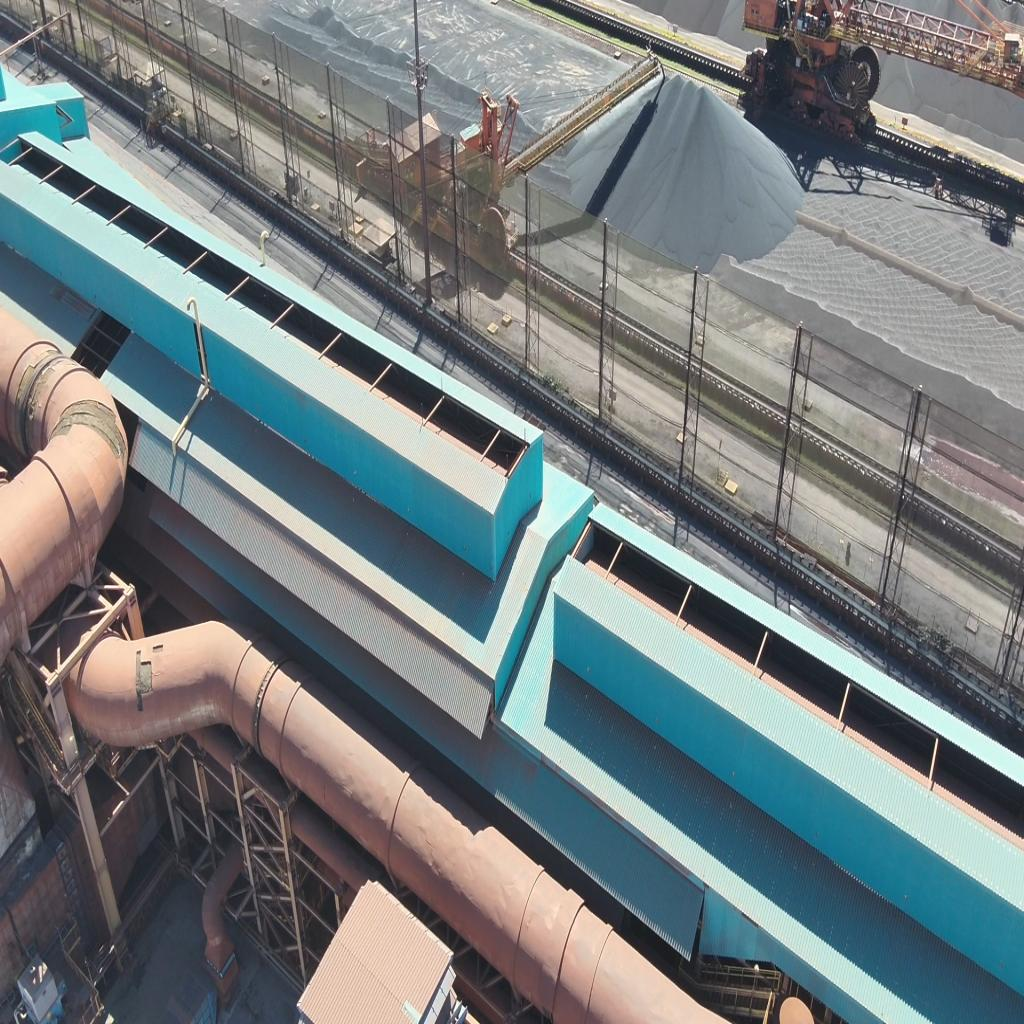Failures: (47, 389, 128, 480), (11, 351, 69, 441), (125, 651, 155, 716), (150, 632, 166, 657)
